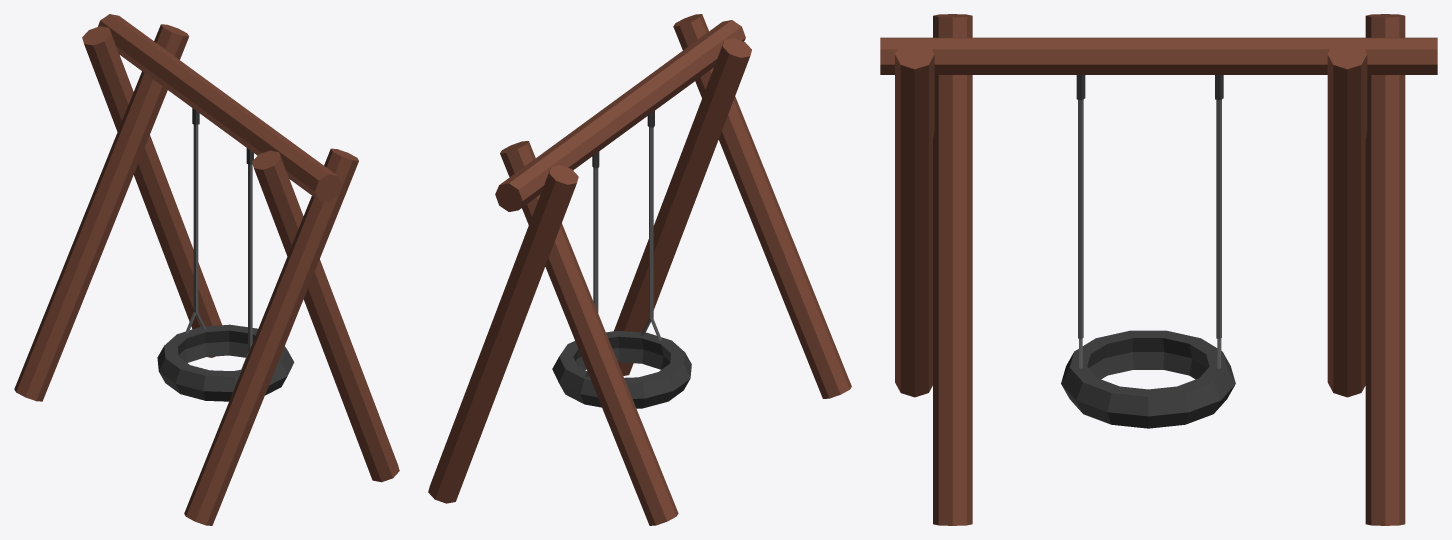
The model's file is SwingTop.fbx.
3 views of the same model, side by side, from view 1: azimuth 30°, elevation 25°; view 2: azimuth 150°, elevation 25°; view 3: azimuth 270°, elevation 25° (orthographic). The views are drawn at different scales.
Parts seen in each view (by area): view 1: SwingTop, Swinger; view 2: SwingTop, Swinger; view 3: SwingTop, Swinger.
Boxes of the visible parts, <box> form: SwingTop: <box>14,14,399,525</box>; Swinger: <box>157,108,294,401</box>; SwingTop: <box>428,14,851,525</box>; Swinger: <box>552,111,691,408</box>; SwingTop: <box>880,14,1437,525</box>; Swinger: <box>1061,75,1235,428</box>.
Bounding box in the file's own units: 1050 × 1562 × 1755.
